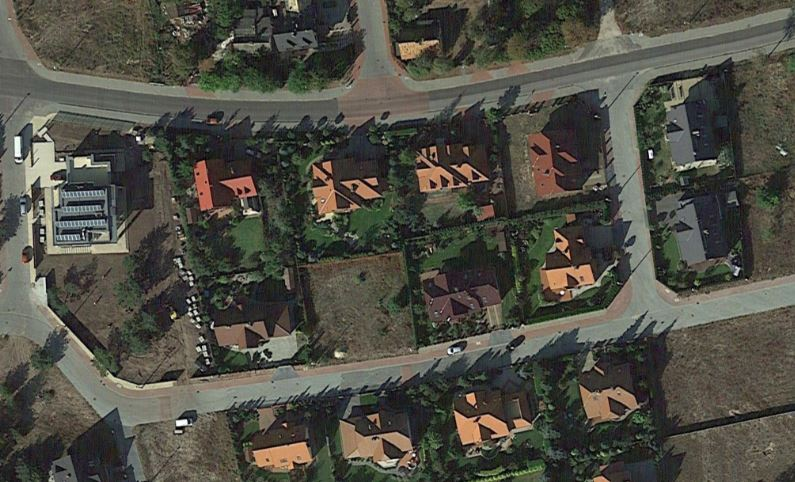block of flats: (39, 175, 119, 250)
family house: (337, 395, 426, 476), (450, 378, 544, 453), (301, 140, 387, 219), (420, 258, 504, 329), (664, 191, 732, 276), (205, 291, 301, 350), (657, 95, 728, 174), (573, 352, 643, 431), (242, 410, 323, 476), (191, 155, 267, 225), (526, 126, 594, 200), (539, 219, 603, 297), (408, 139, 496, 195)
